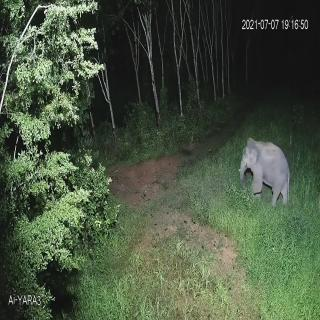Elephant: (236, 132, 291, 210)
